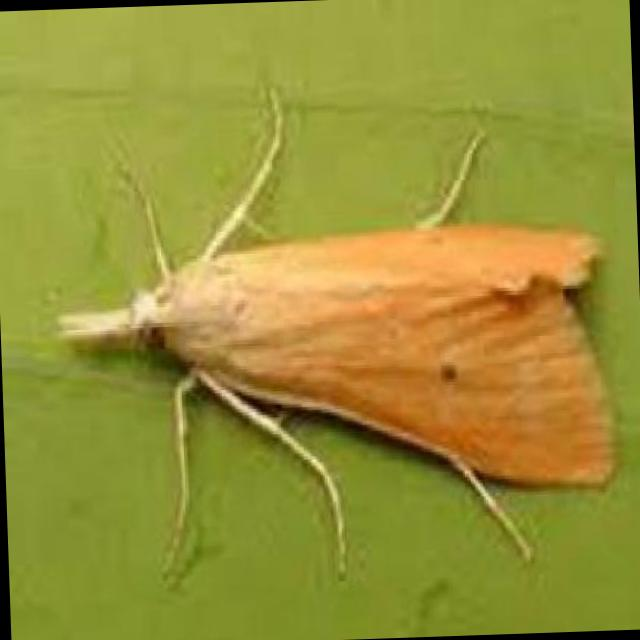stem-borer: (46, 73, 624, 589)
